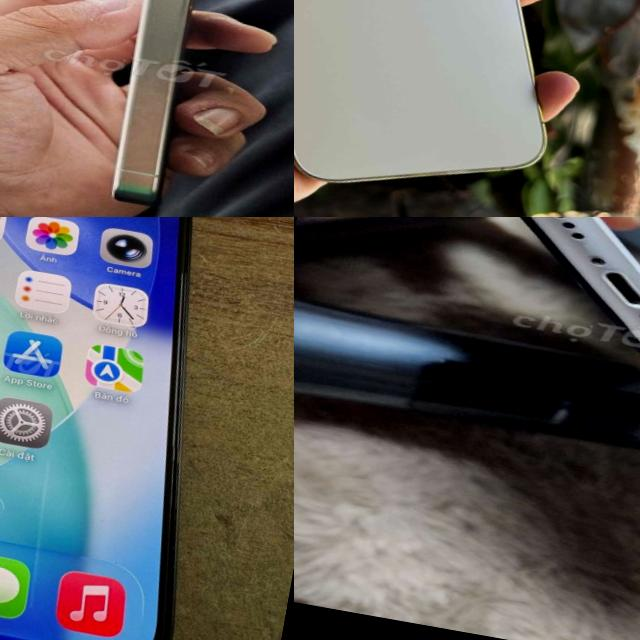gen_11: (521, 217, 640, 348)
gen_12_13: (294, 0, 619, 217)
gen_15: (0, 217, 280, 640), (72, 0, 281, 217)
